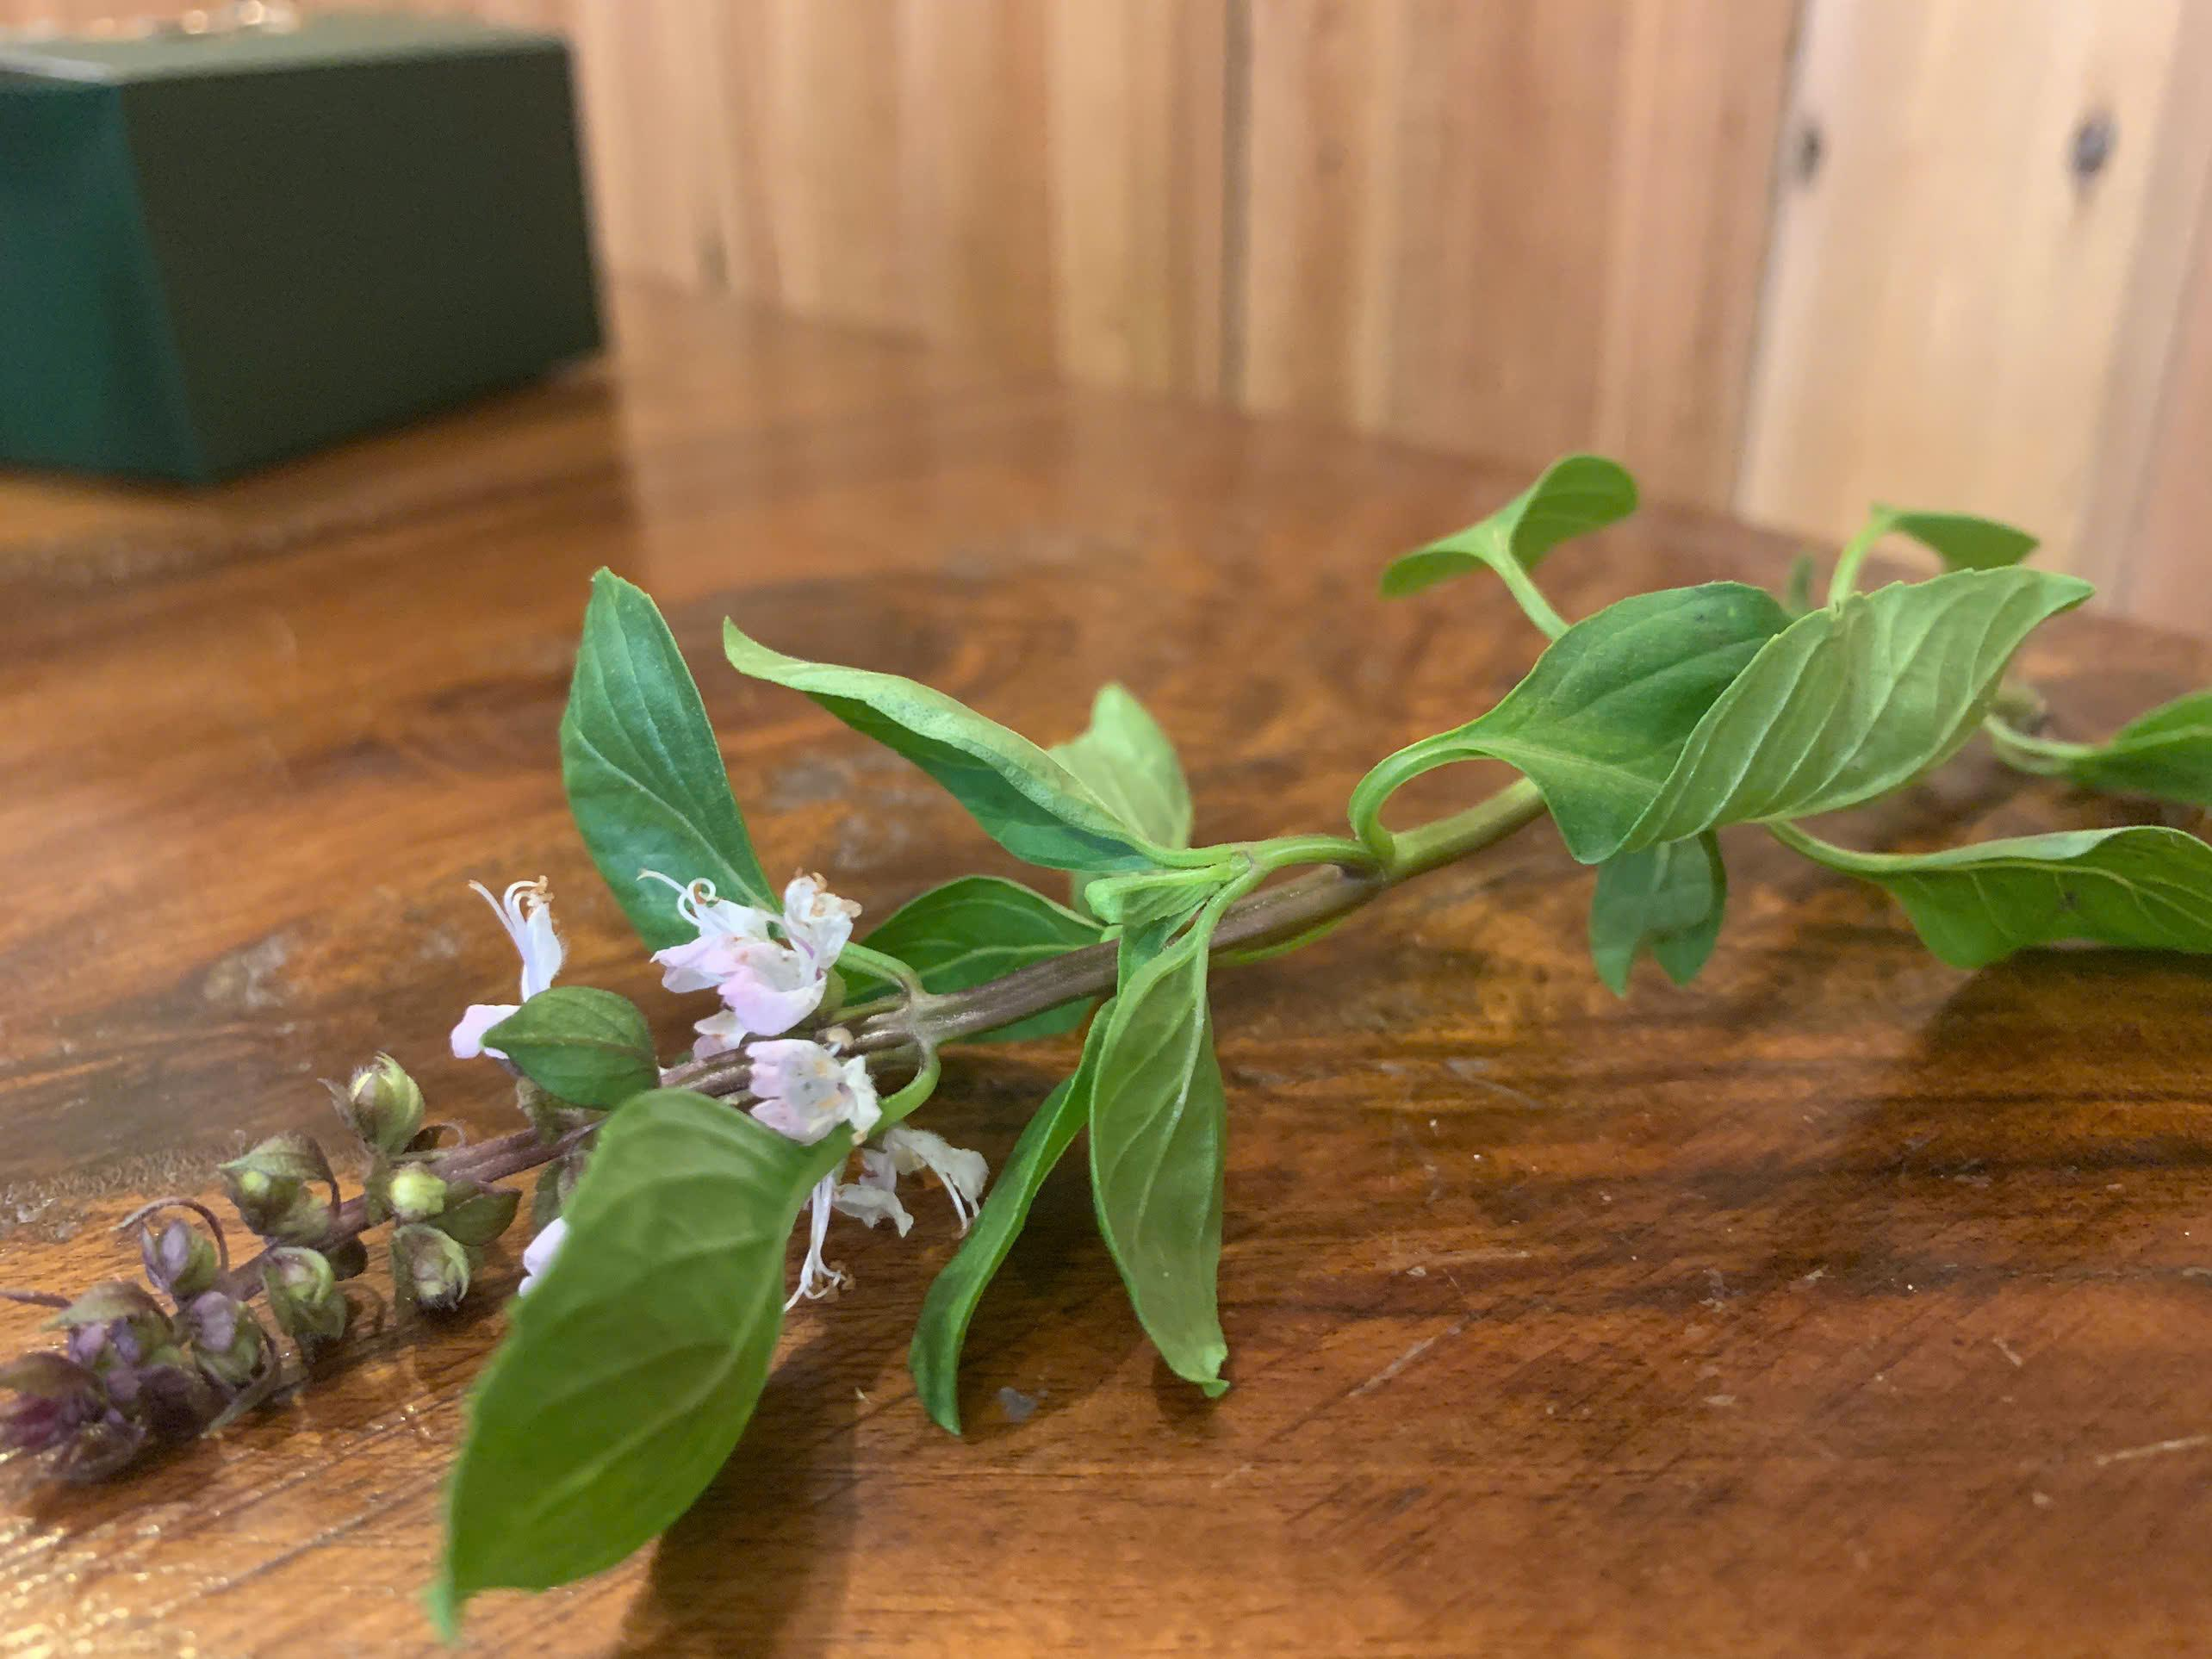Huu co: (526, 561, 2212, 1260)
